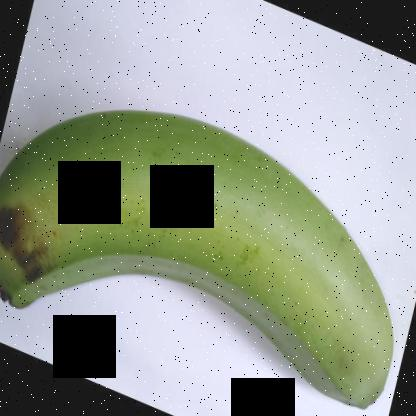freshunripe: (1, 94, 397, 415)
